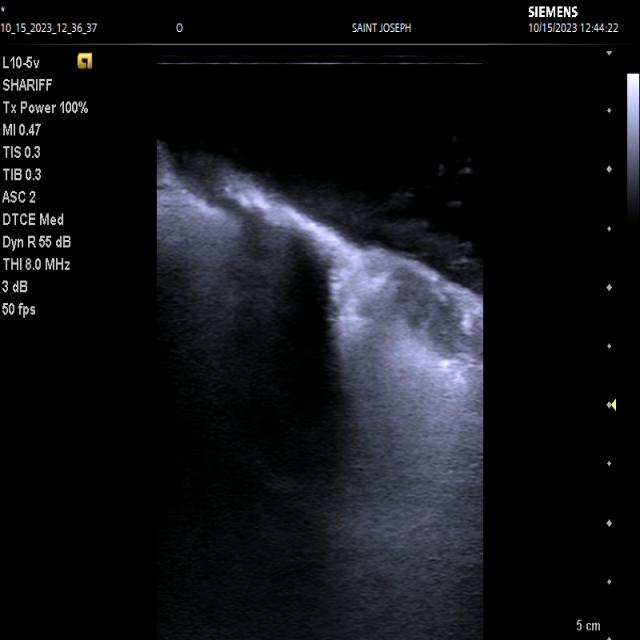tissue: (154, 143, 485, 640)
